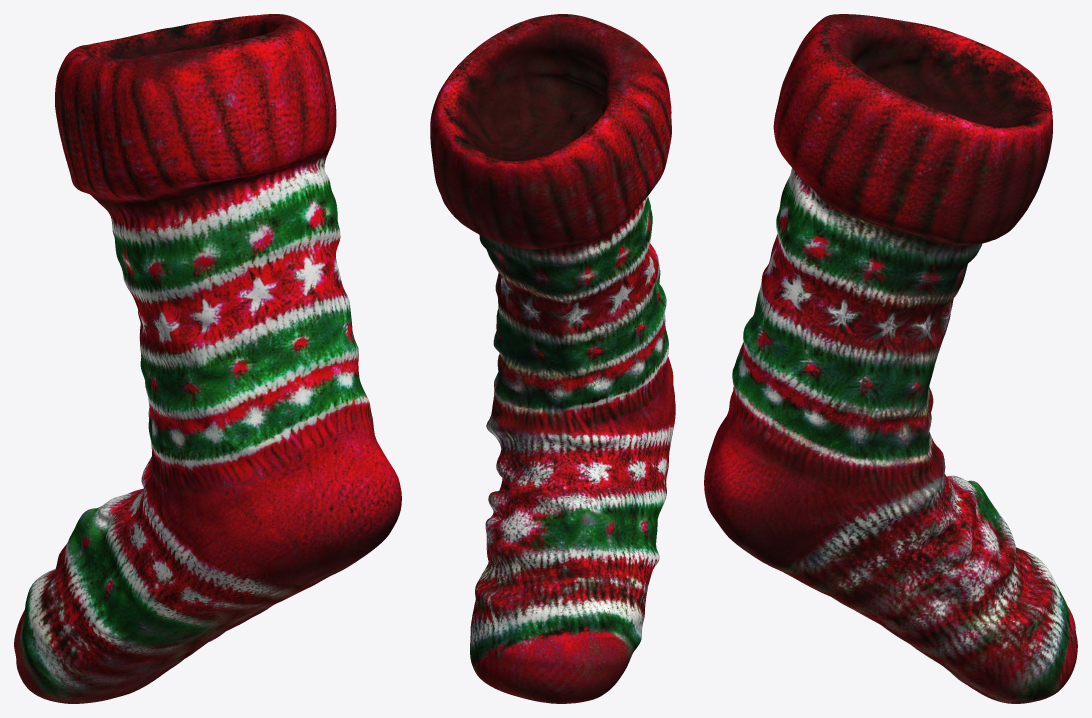
File: christmas_sock.glb
3 renders of one model, left to right at view 1: azimuth 30°, elevation 25°; view 2: azimuth 150°, elevation 25°; view 3: azimuth 270°, elevation 25°, orthographic. The views are drawn at different scales.
Visible parts, largest first — view 1: default-material; view 2: default-material; view 3: default-material.
Part boxes in pixels (x1,y1,x2,y2): default-material: (14, 14, 401, 703); default-material: (430, 14, 675, 703); default-material: (704, 14, 1077, 703).
Bounding box in the file's own units: 0.6648 × 1.81 × 0.9017.
Materials: 1 (1 with a texture image).
